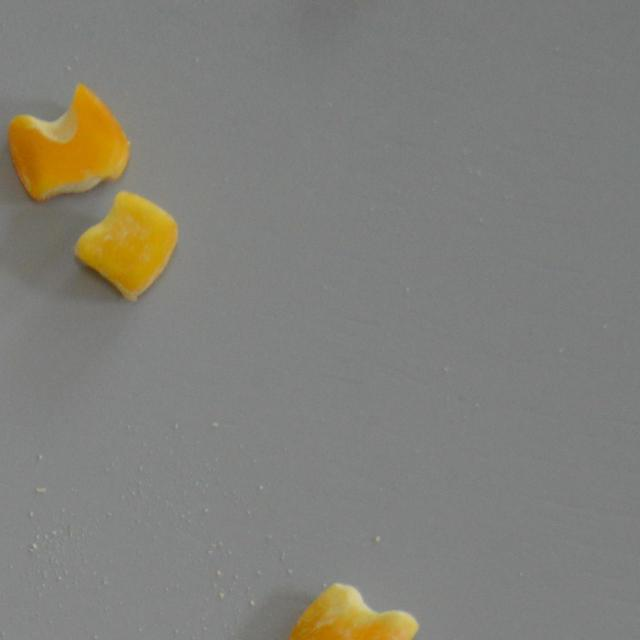pelicula: (6, 83, 130, 201), (72, 191, 179, 303), (287, 582, 420, 640)
